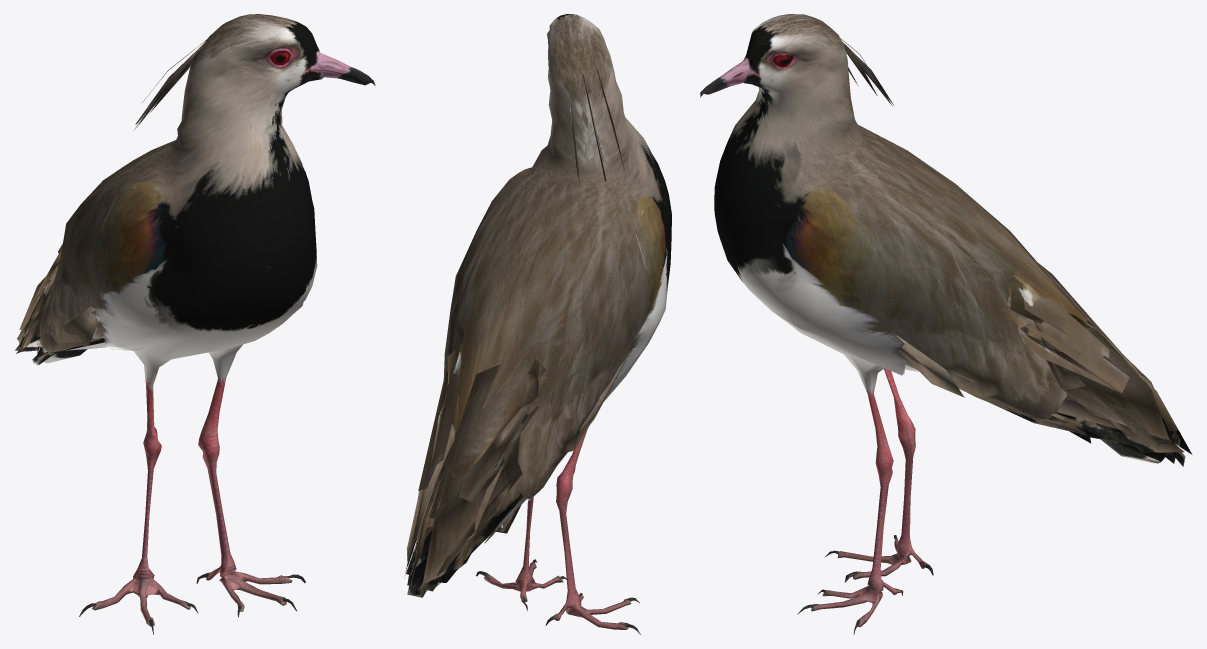
File: Meshy_AI_Southern_Lapwing_Bird_1012034655_texture.glb
The picture shows the model from 3 angles, left to right: view 1: azimuth 30°, elevation 25°; view 2: azimuth 150°, elevation 25°; view 3: azimuth 270°, elevation 25°; orthographic projection. The views are drawn at different scales.
Bounding box in the file's own units: 0.3364 × 0.9502 × 0.7305.
1 material, 1 textured.
